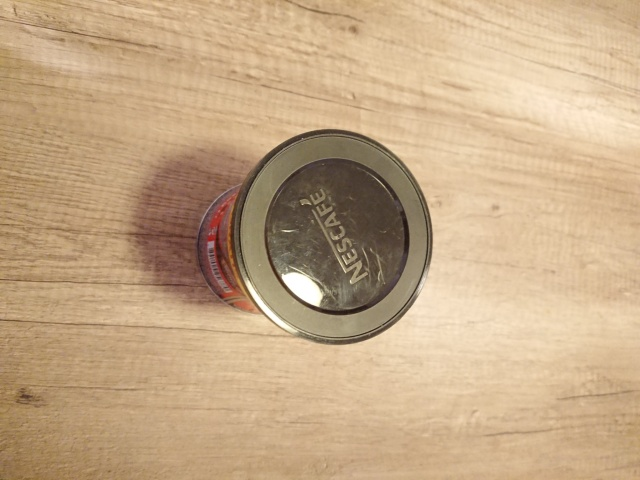Nescafe Classic 225g: (192, 124, 438, 349)
